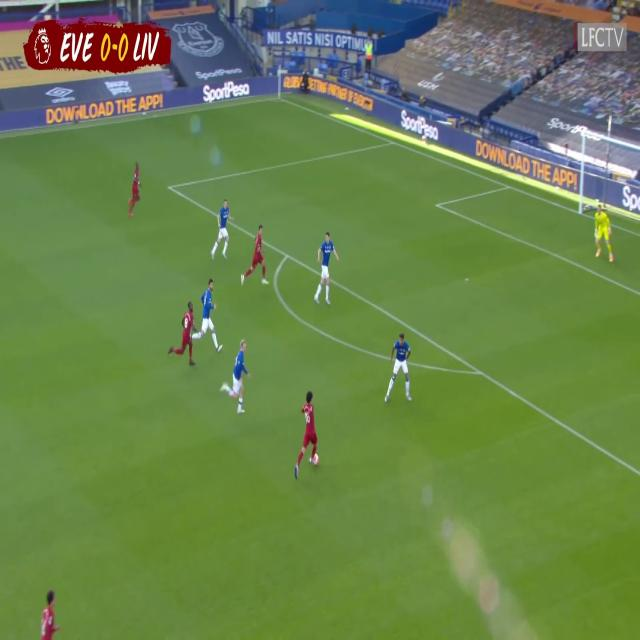ball: (313, 452, 319, 466)
team1: (295, 393, 321, 480), (169, 301, 199, 364), (241, 225, 269, 288), (38, 589, 58, 639), (127, 162, 143, 217)
team2: (224, 339, 251, 415), (386, 334, 414, 406), (195, 278, 220, 354), (315, 233, 337, 305), (212, 198, 233, 262)
